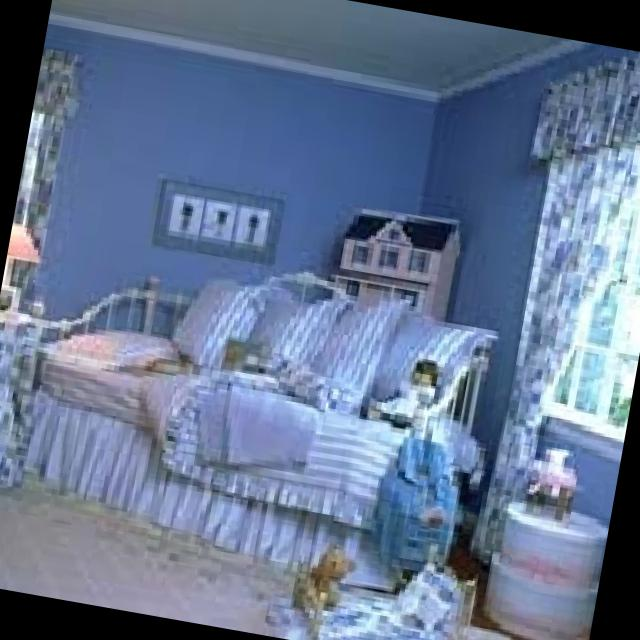2001: (510, 140, 640, 449)
backpack: (382, 440, 458, 557)
blanket: (200, 382, 322, 462)
boxes: (487, 499, 609, 640)
ceiling beam: (53, 0, 584, 97)
curtain crop: (476, 51, 640, 555), (17, 42, 88, 244)
doll: (371, 361, 444, 424)
lamp crop: (4, 223, 46, 284)
night stand: (5, 306, 64, 450)
painting crop: (153, 173, 284, 264)
pillow occluded: (299, 306, 404, 405), (171, 278, 271, 368), (378, 310, 482, 391), (264, 297, 342, 372)
sofa crop: (24, 274, 500, 589)
teddy bear: (304, 540, 358, 607)
toy crio: (271, 565, 483, 640), (338, 206, 467, 318)
